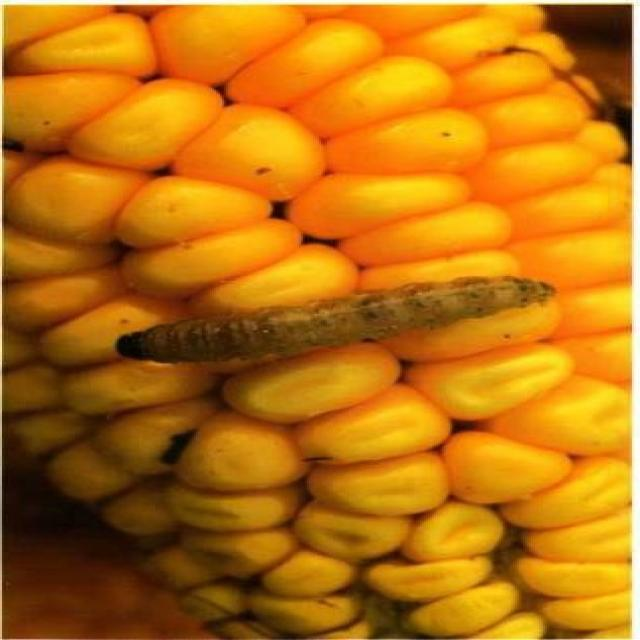peach borer: (111, 275, 565, 377)
